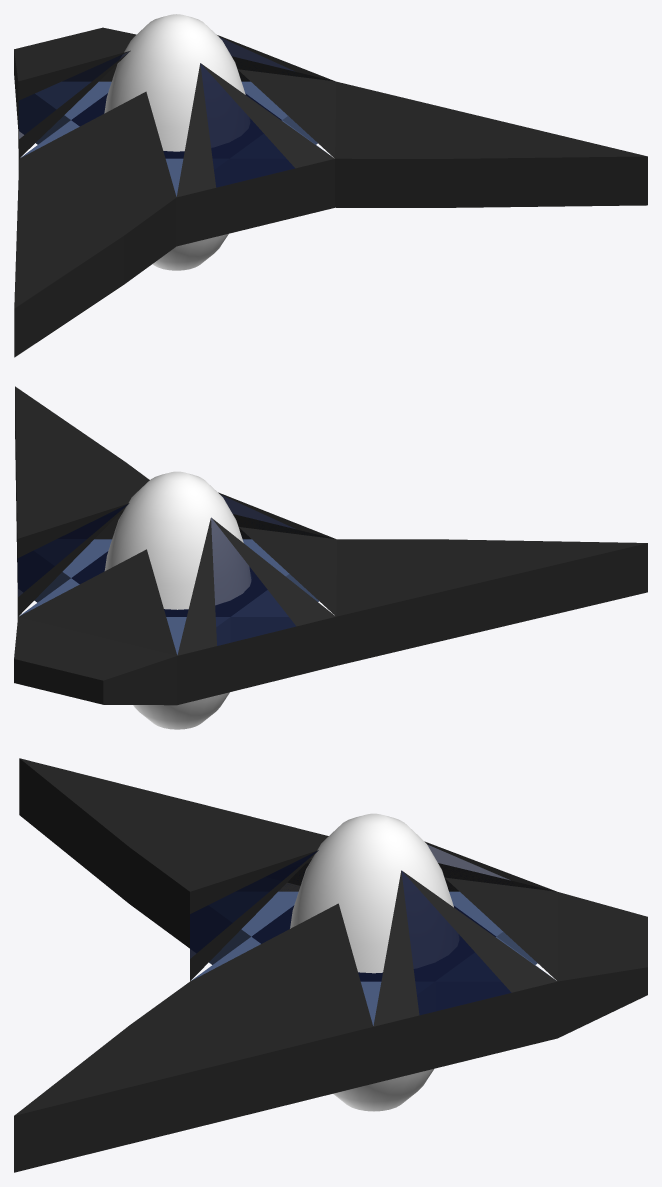
Rendered from infected_byte.dae.
3 views of the same model, one above another, from view 1: azimuth 30°, elevation 25°; view 2: azimuth 150°, elevation 25°; view 3: azimuth 270°, elevation 25° (orthographic). The views are drawn at different scales.
Parts seen in each view (by area): view 1: SketchUp (×15); view 2: SketchUp (×13); view 3: SketchUp (×15).
Boxes of the visible parts, x1,y1,x2,y2 form: SketchUp (×15): (14,14,647,357); SketchUp (×13): (14,386,647,729); SketchUp (×15): (14,758,647,1172).
Bounding box in the file's own units: 546 × 409 × 205.
